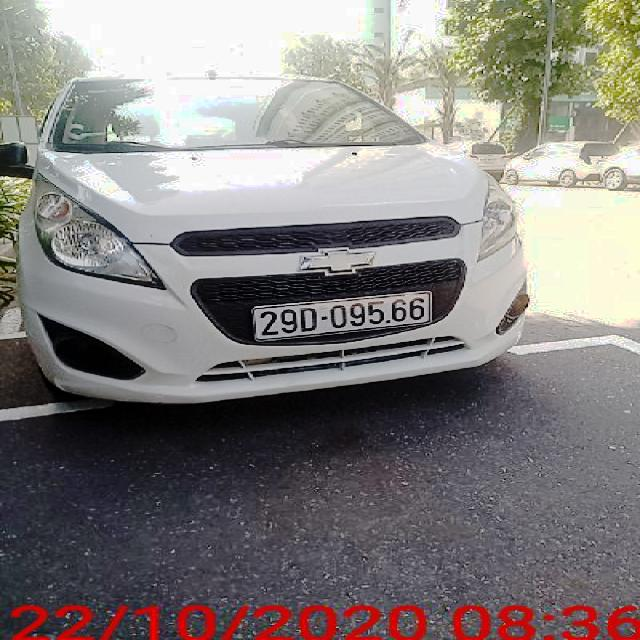license_plate: (258, 294, 435, 340)
